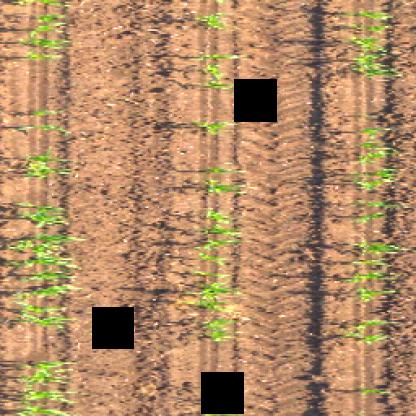sorghum_plant: (348, 125, 395, 346), (195, 166, 244, 344), (12, 203, 80, 330), (16, 104, 78, 180), (193, 10, 247, 96), (344, 8, 395, 81), (18, 362, 83, 413), (21, 0, 72, 62)
